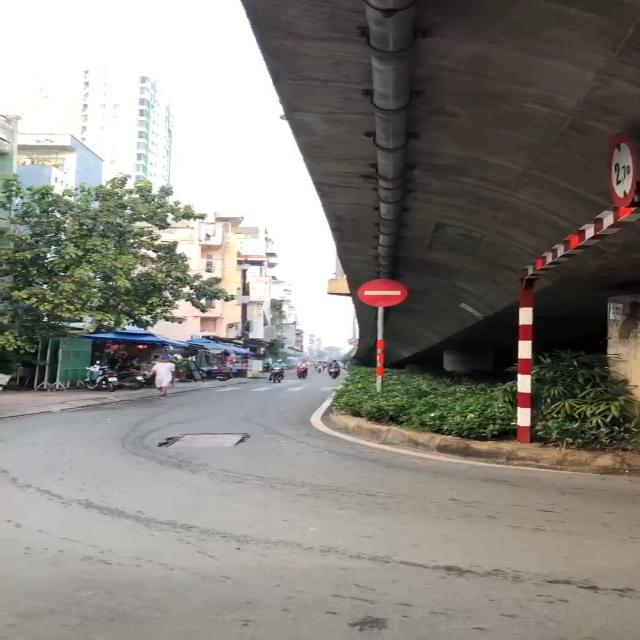Bien bao cam di nguoc chieu: (354, 275, 409, 313)
Bien bao han che chieu cao: (596, 129, 640, 212)
